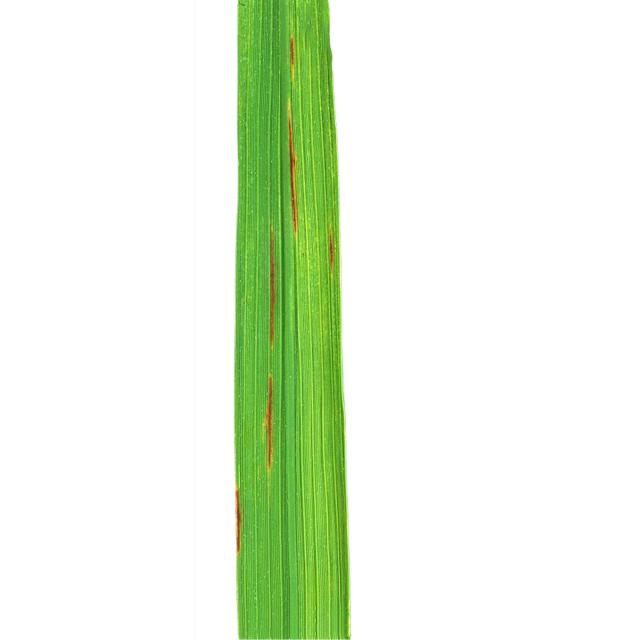Narrow brown: (204, 1, 461, 640)
